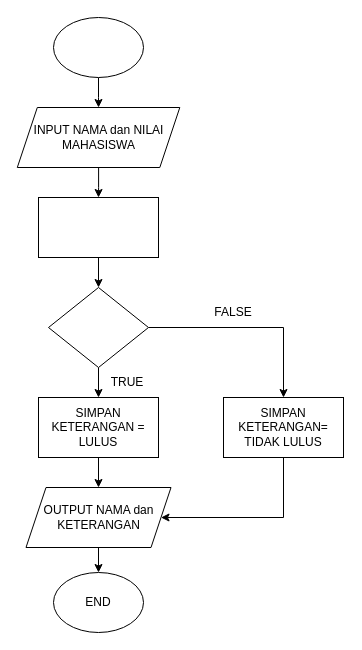
Image size: 362x650. Some labels were removed from this diagram. The box of each missing label's shape, as (x1, y1, x2, y2) in pixels:
BEGIN: (52, 16, 144, 78)
JIKA NILAI >=60: (48, 286, 148, 368)
SIMPAN NAMA dan NILAI MAHASISWA: (38, 196, 158, 258)
